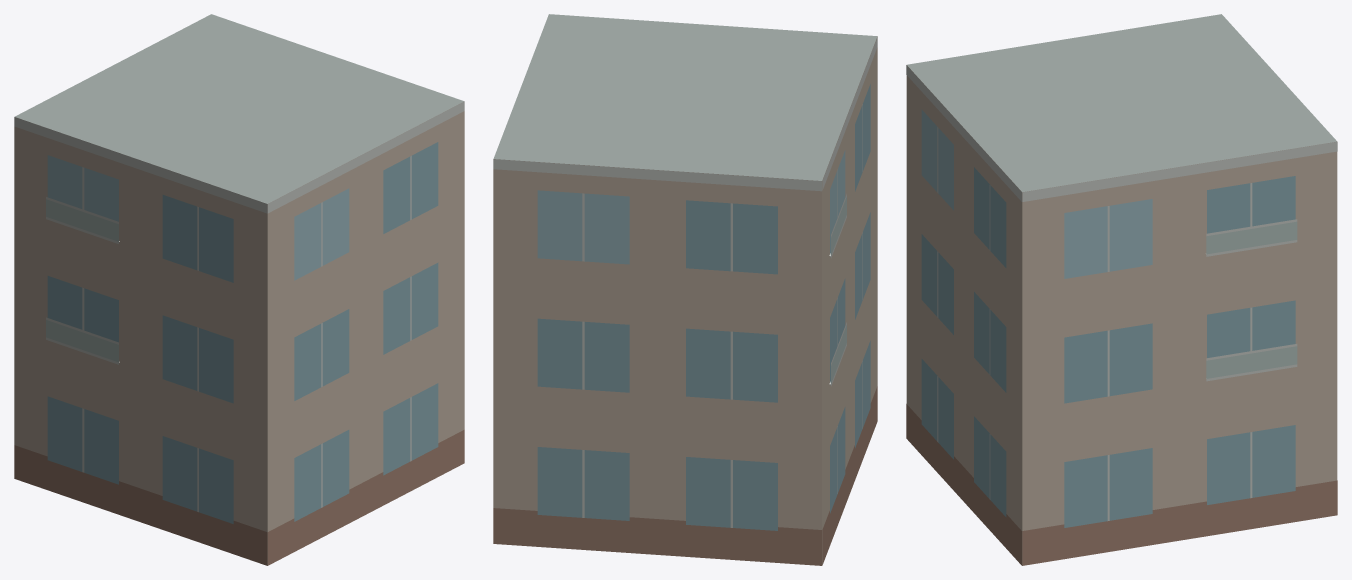
File: survey-upis-32524076.glb
The picture shows the model from 3 angles, left to right: view 1: azimuth 30°, elevation 25°; view 2: azimuth 150°, elevation 25°; view 3: azimuth 270°, elevation 25°; orthographic projection. The views are drawn at different scales.
Parts seen in each view (by area): view 1: survey-upis-32524076.tmp; view 2: survey-upis-32524076.tmp; view 3: survey-upis-32524076.tmp.
Boxes of the visible parts, x1=… form: survey-upis-32524076.tmp: x1=14, y1=14, x2=464, y2=565; survey-upis-32524076.tmp: x1=493, y1=14, x2=877, y2=565; survey-upis-32524076.tmp: x1=906, y1=14, x2=1337, y2=565.
Size of the model in its own units: 9.37 by 9.15 by 9.58.
